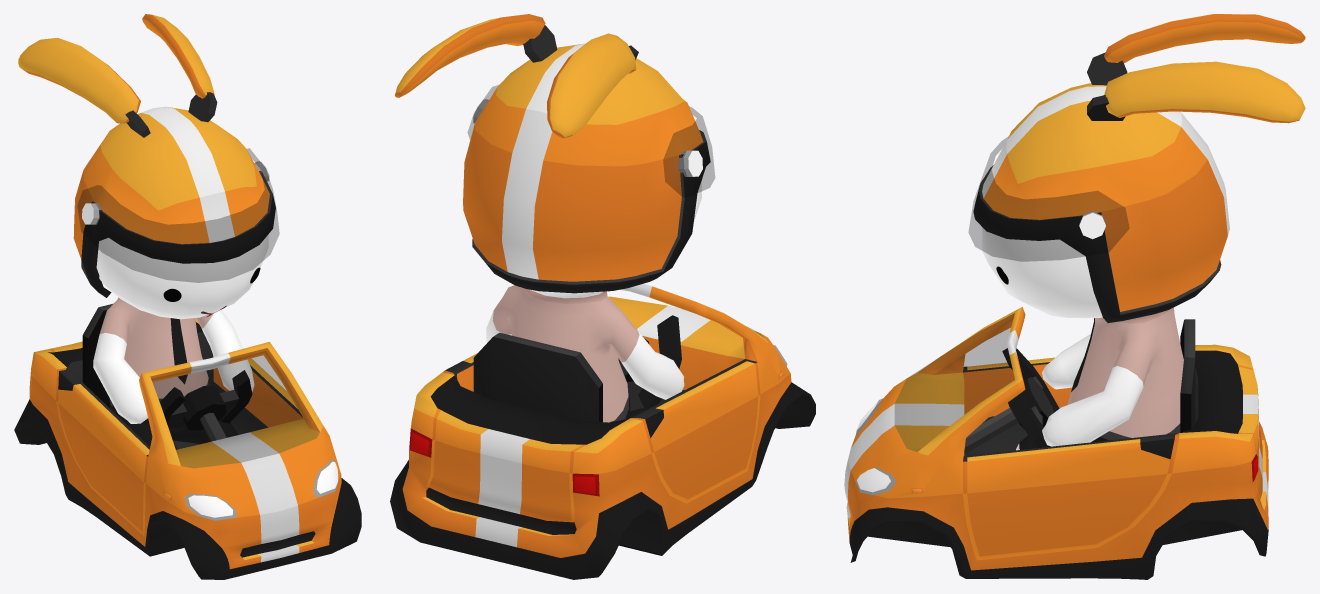
Rendered from car.glb.
3 views of the same model, side by side, from view 1: azimuth 30°, elevation 25°; view 2: azimuth 150°, elevation 25°; view 3: azimuth 270°, elevation 25° (orthographic). The views are drawn at different scales.
Parts seen in each view (by area): view 1: car, car_hat, car_qmimi, car_glass, car_hat_glass, car_hat_ear; view 2: car, car_hat, car_qmimi, car_hat_ear, car_hat_glass; view 3: car, car_hat, car_qmimi, car_hat_ear, car_hat_glass, car_glass.
Part boxes in pixels (x1,y1,x2,y2): car: (14,304,361,579); car_hat: (73,106,275,297); car_qmimi: (93,234,268,449); car_glass: (151,348,338,520); car_hat_glass: (77,148,279,282); car_hat_ear: (18,14,217,137); car: (390,283,815,579); car_hat: (463,43,710,293); car_qmimi: (486,180,701,422); car_hat_ear: (395,14,638,138); car_hat_glass: (467,85,714,197); car: (844,307,1268,579); car_hat: (973,83,1229,322); car_qmimi: (982,227,1183,450); car_hat_ear: (1087,14,1305,123); car_hat_glass: (968,137,1129,261); car_glass: (856,313,1014,494).
Bounding box in the file's own units: 2.23 × 4.88 × 4.11.
2 materials, 2 textured.
